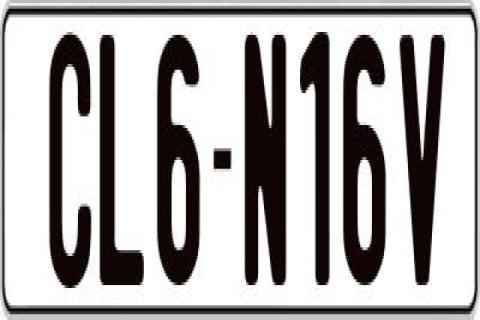0: (154, 35, 204, 291), (341, 29, 383, 279), (298, 27, 330, 297)
C: (46, 32, 88, 288)
L: (98, 35, 148, 303)
N: (245, 26, 291, 288)
V: (398, 27, 448, 286)
